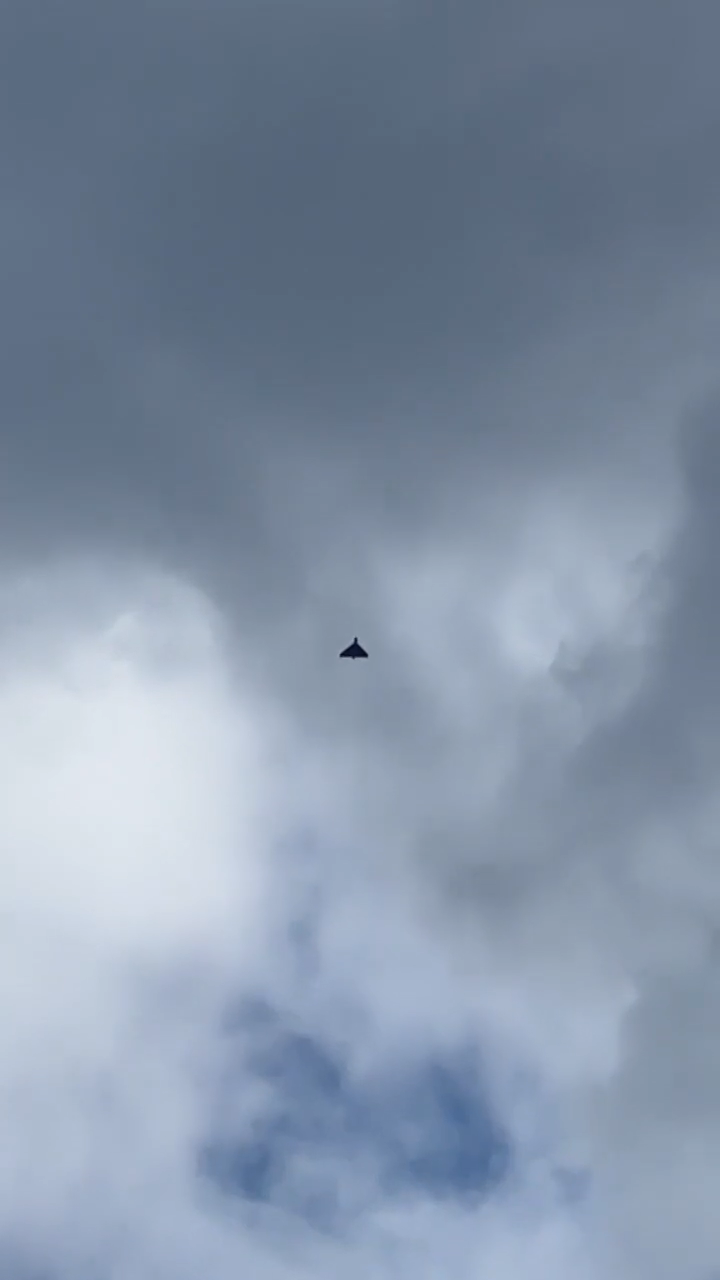shahed: (337, 633, 371, 662)
